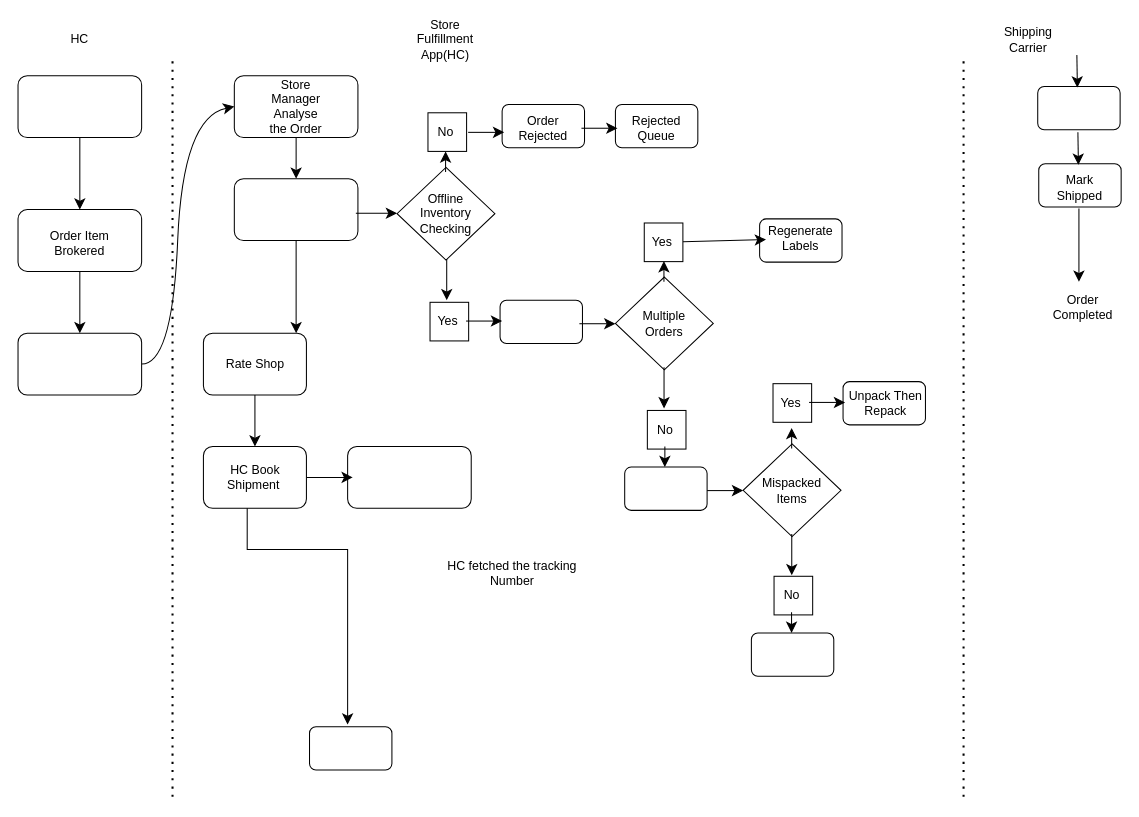
Some shapes in this 1139 by 817 pixel diagram are drawn without their labels. The box of each missing label's shape, as (x1, y1, x2, y2) in pixels:
Advanced Shipping Label Generated by HC: (347, 445, 471, 508)
Alocated on store: (17, 332, 142, 395)
Attach Labels: (750, 632, 834, 676)
Create picklist & Assign the pickers: (233, 178, 358, 241)
Order Approved: (17, 75, 142, 138)
Pack Items: (624, 466, 707, 510)
Picker picks Items: (499, 299, 582, 344)
Pickup Package: (1037, 85, 1120, 130)
Shipping Caerrier: (308, 726, 392, 770)
